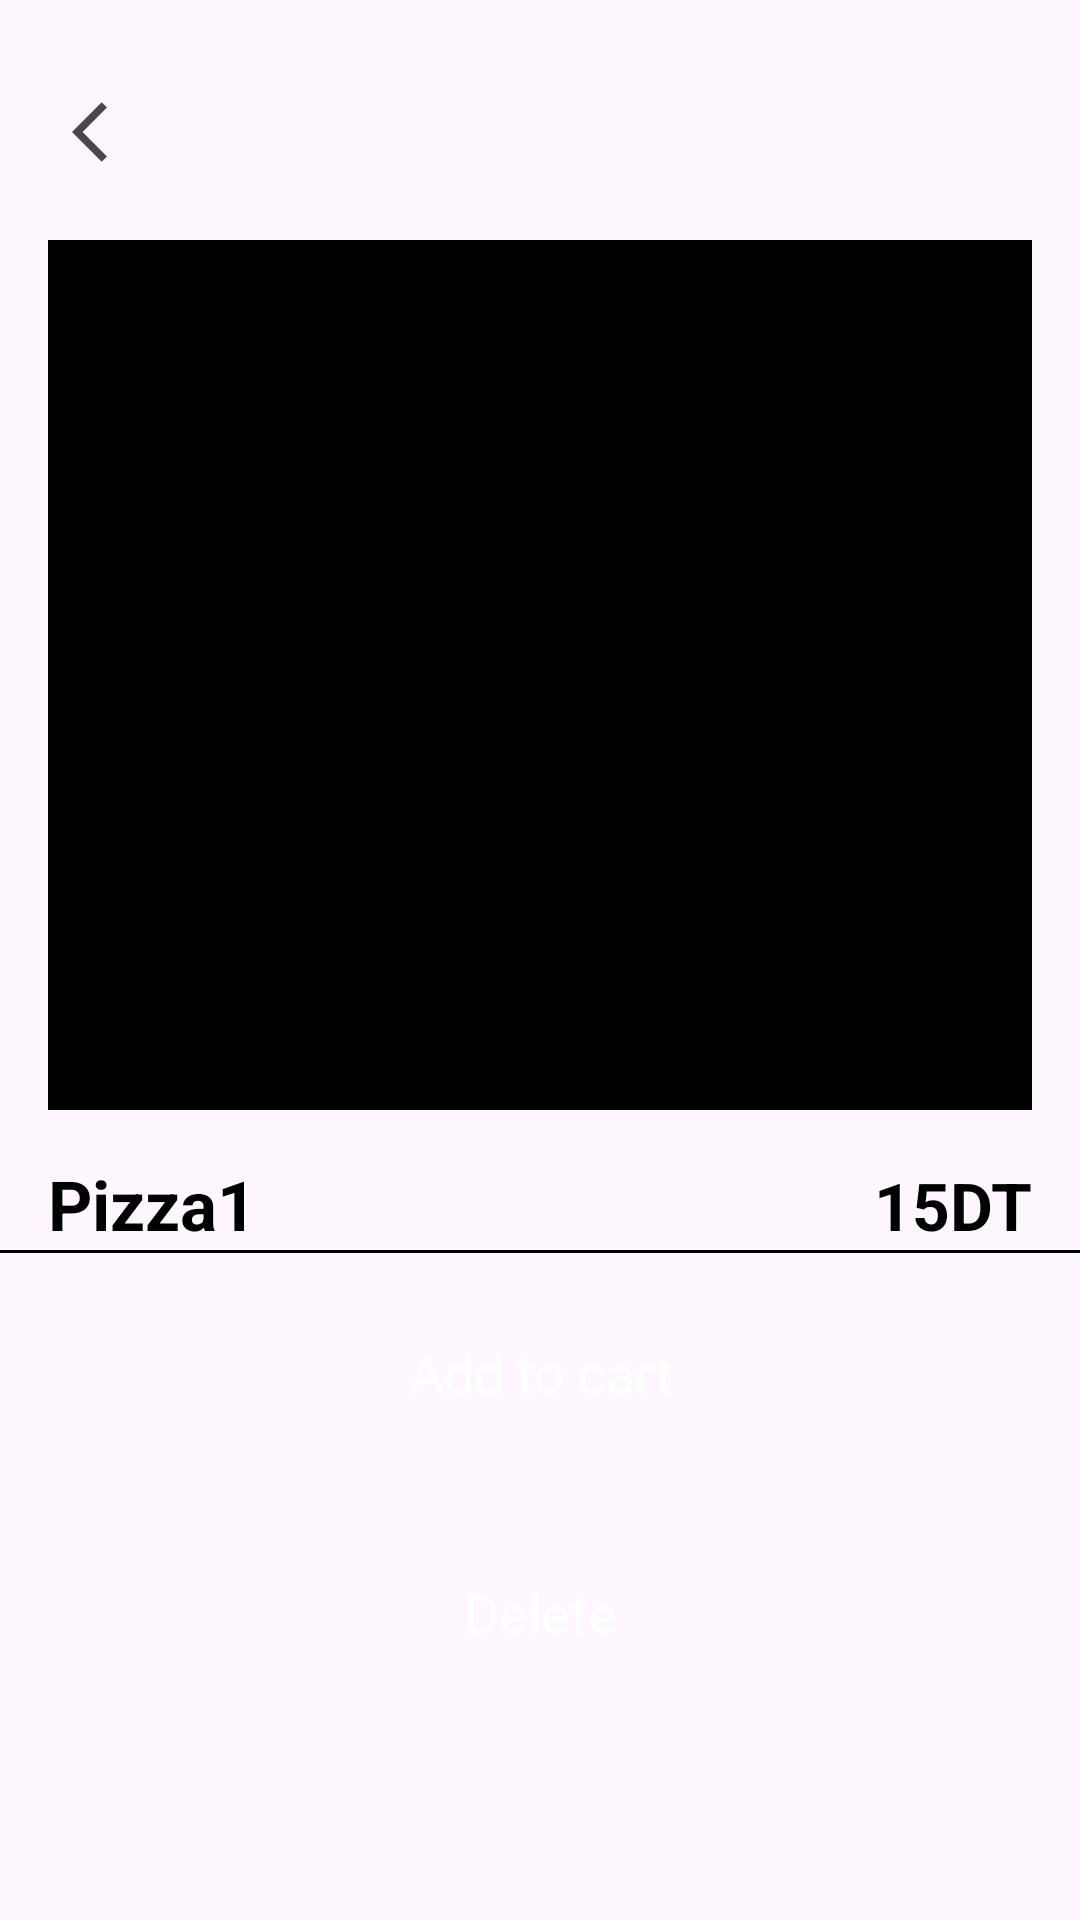

Where icons sit on this 1080*1920 app screen, as [x1, y1, x2, y2]:
arrow back: [72, 102, 107, 162]
